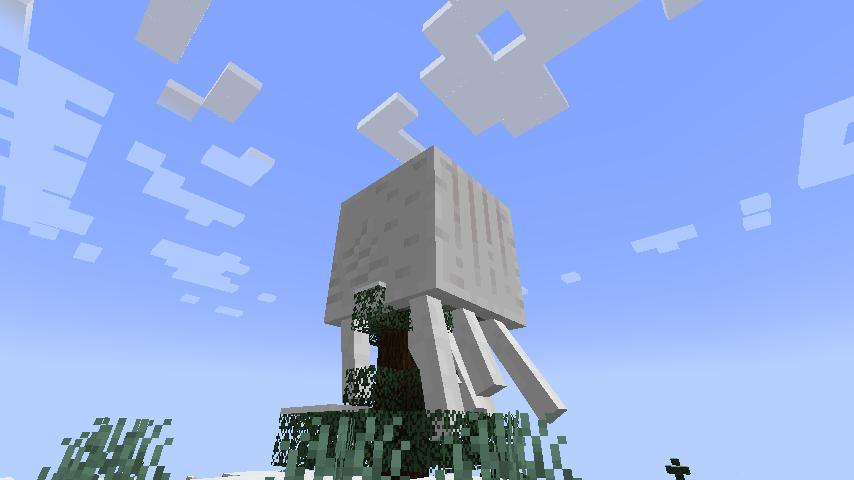ghast: (325, 146, 568, 441)
